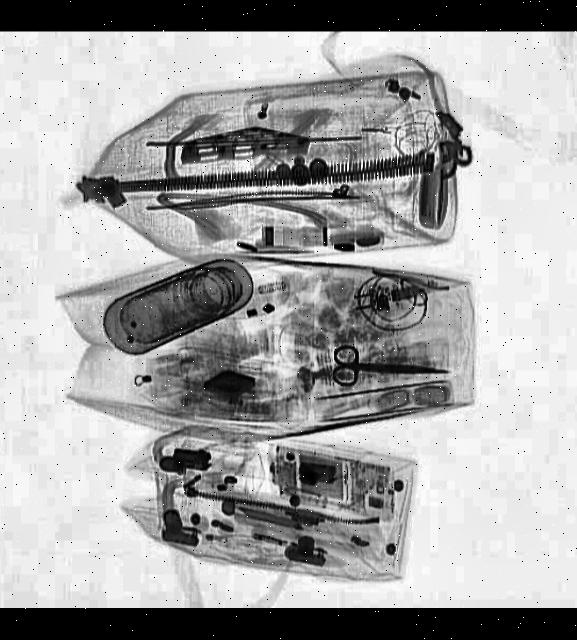Scissors: (329, 348, 452, 393)
